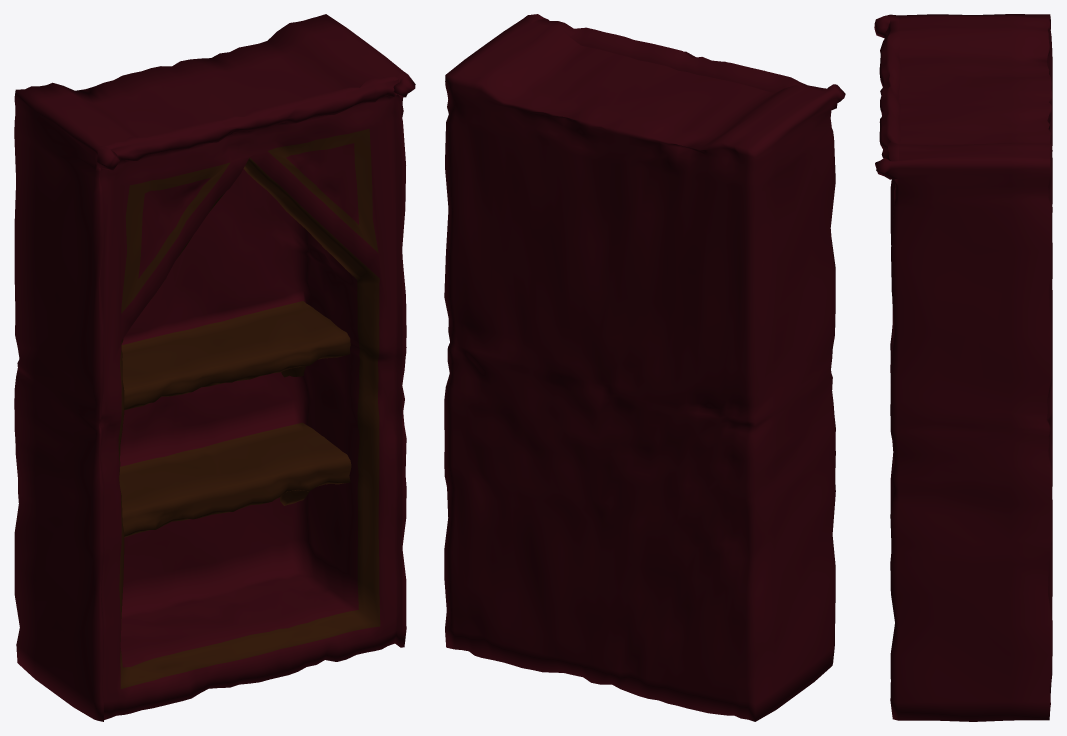
File: AlchemyShelf_midPoly.fbx
3 views of the same model, side by side, from view 1: azimuth 30°, elevation 25°; view 2: azimuth 150°, elevation 25°; view 3: azimuth 270°, elevation 25° (orthographic). The views are drawn at different scales.
Parts seen in each view (by area): view 1: Cube; view 2: Cube; view 3: Cube.
Part boxes in pixels (<box>): Cube: <box>14,14,415,721</box>; Cube: <box>444,14,845,721</box>; Cube: <box>874,14,1052,721</box>.
Bounding box in the file's own units: 202 × 350 × 100.
